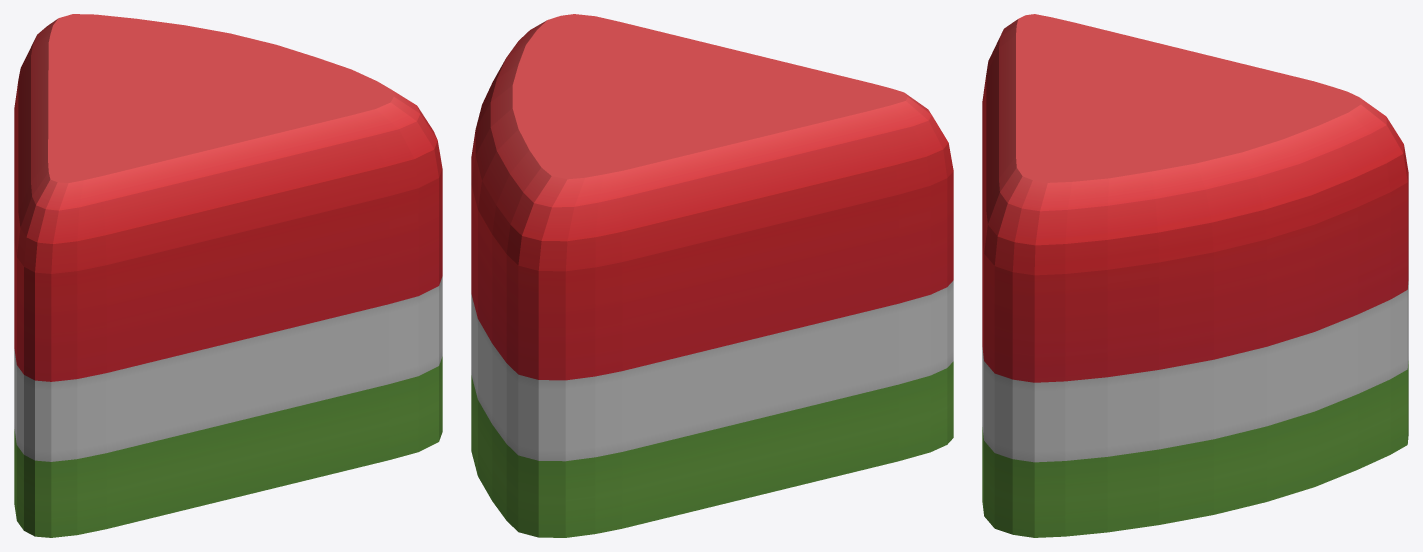
Rendered from cake01_slice.FBX.
The picture shows the model from 3 angles, left to right: view 1: azimuth 30°, elevation 25°; view 2: azimuth 150°, elevation 25°; view 3: azimuth 270°, elevation 25°; orthographic projection.
Parts seen in each view (by area): view 1: cake01_slice; view 2: cake01_slice; view 3: cake01_slice.
Boxes of the visible parts, x1=… form: cake01_slice: x1=14, y1=14, x2=442, y2=537; cake01_slice: x1=471, y1=14, x2=953, y2=537; cake01_slice: x1=982, y1=14, x2=1408, y2=537.
Size of the model in its own units: 0.00904 by 0.00692 by 0.00796.
